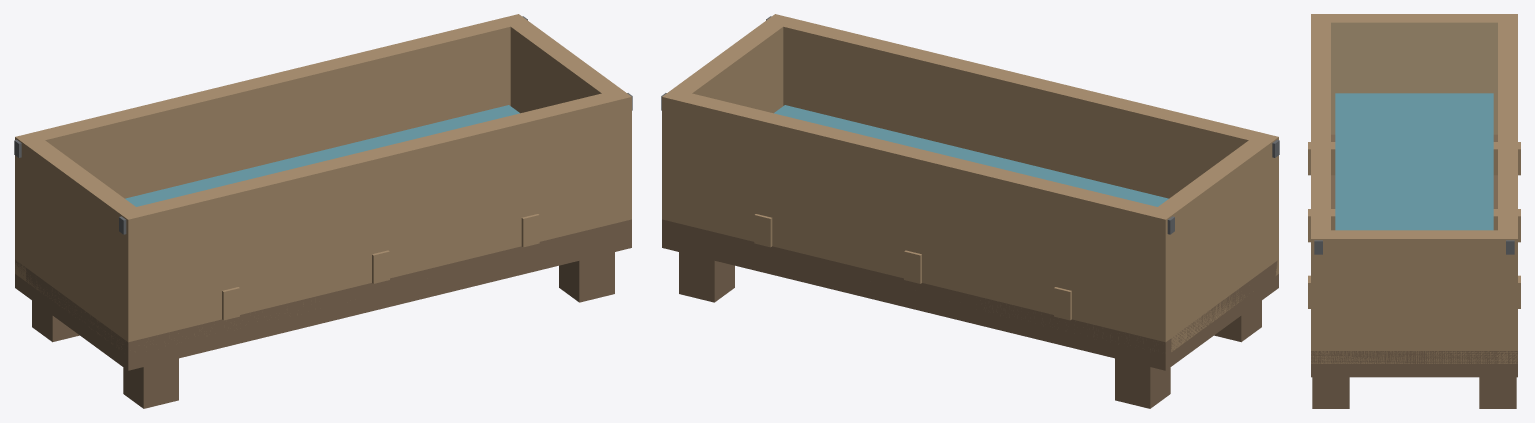
File: water_trough.glb
The picture shows the model from 3 angles, left to right: view 1: azimuth 30°, elevation 25°; view 2: azimuth 150°, elevation 25°; view 3: azimuth 270°, elevation 25°; orthographic projection. The views are drawn at different scales.
Visible parts, largest first — view 1: water_trough; view 2: water_trough; view 3: water_trough.
Boxes of the visible parts, x1,y1,x2,y2 form: water_trough: (14,14,632,408); water_trough: (661,14,1279,408); water_trough: (1308,14,1520,408).
Bounding box in the file's own units: 1.87 × 0.68 × 0.74.
